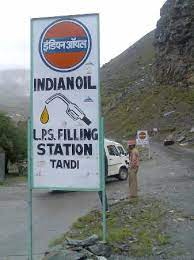fuel-station: (32, 20, 101, 127)
